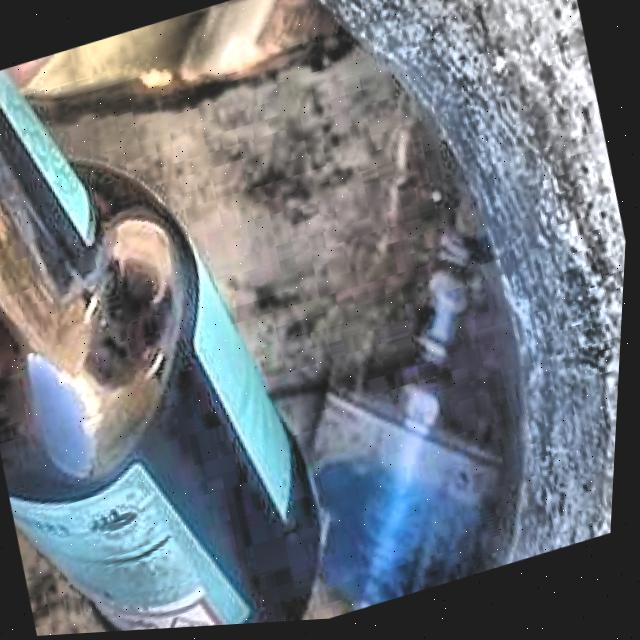glass: (0, 69, 323, 633)
